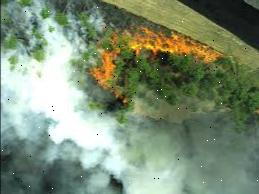fire: (90, 29, 232, 109)
